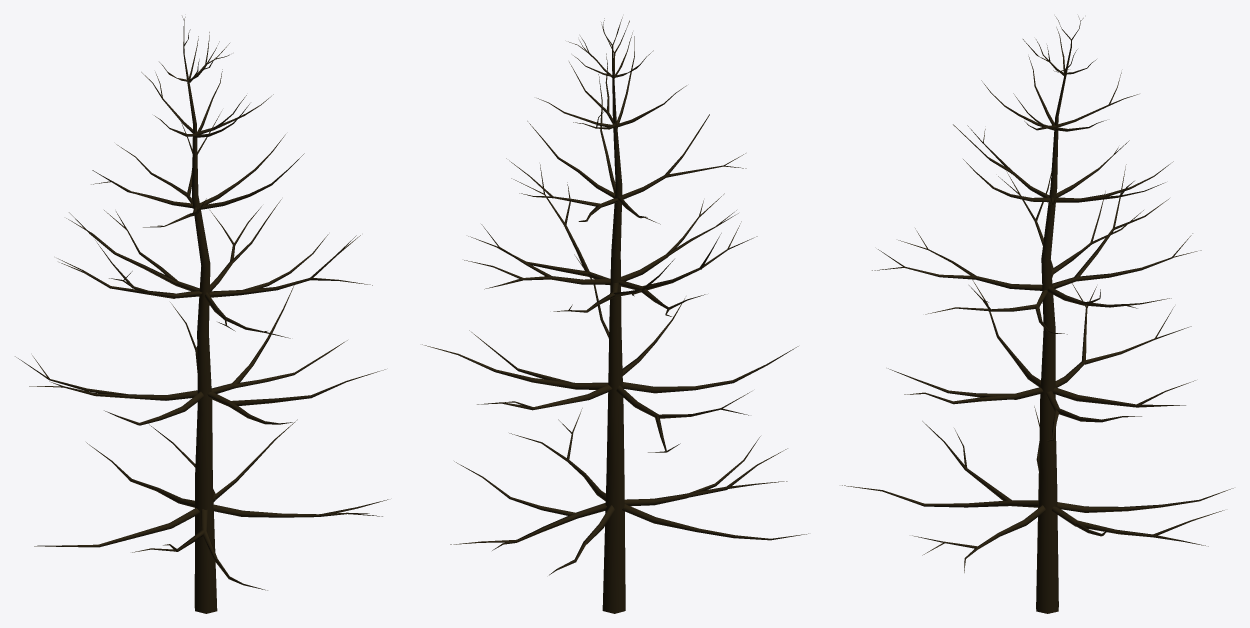
File: PineLOD0Trunk.fbx
The picture shows the model from 3 angles, left to right: view 1: azimuth 30°, elevation 25°; view 2: azimuth 150°, elevation 25°; view 3: azimuth 270°, elevation 25°; orthographic projection. The views are drawn at different scales.
Parts seen in each view (by area): view 1: PineLOD0; view 2: PineLOD0; view 3: PineLOD0.
Boxes of the visible parts, box(x1,y1,x2,y2) form: PineLOD0: box(15, 16, 388, 613); PineLOD0: box(422, 17, 808, 613); PineLOD0: box(842, 16, 1233, 613).
Size of the model in its own units: 1290 by 2194 by 1331.
